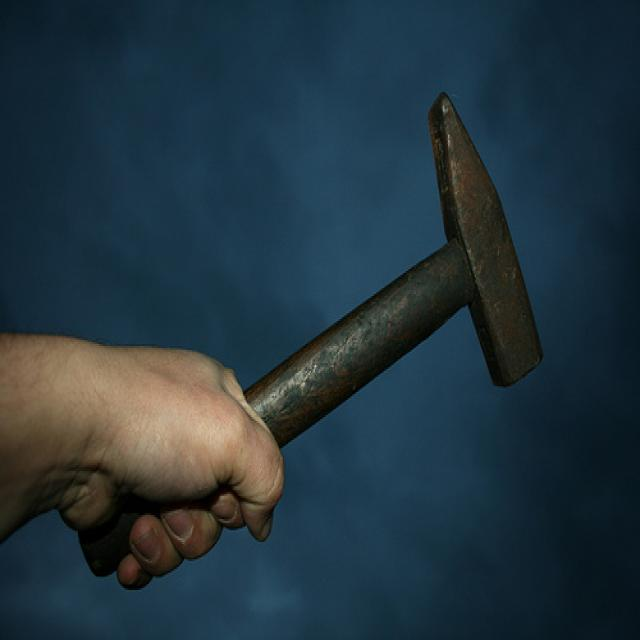hammer: (77, 75, 553, 585)
